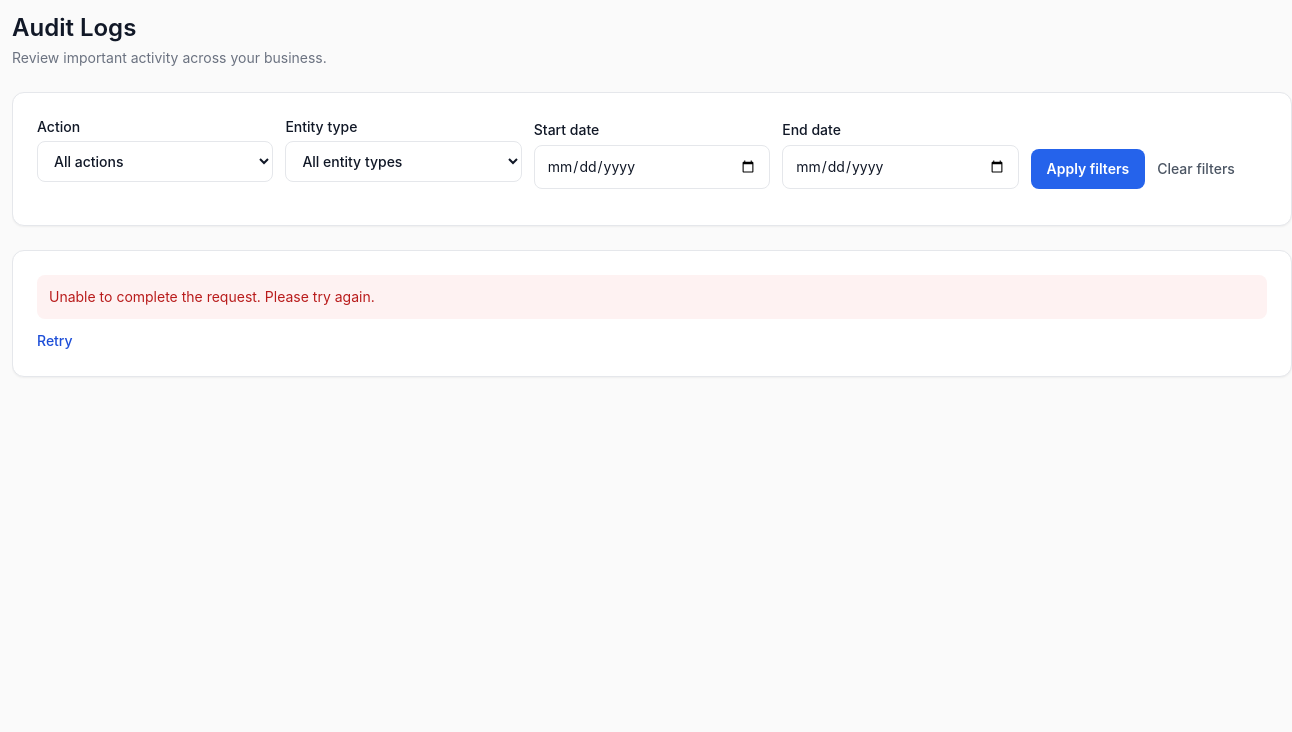
it: audit logs viewer › shows API errors and retries the current query
Check: the text "Unable to complete the request. Please try again." is shown, box [37,275,1267,319]
Click the button "Retry": (55, 341) [37,331,73,351]
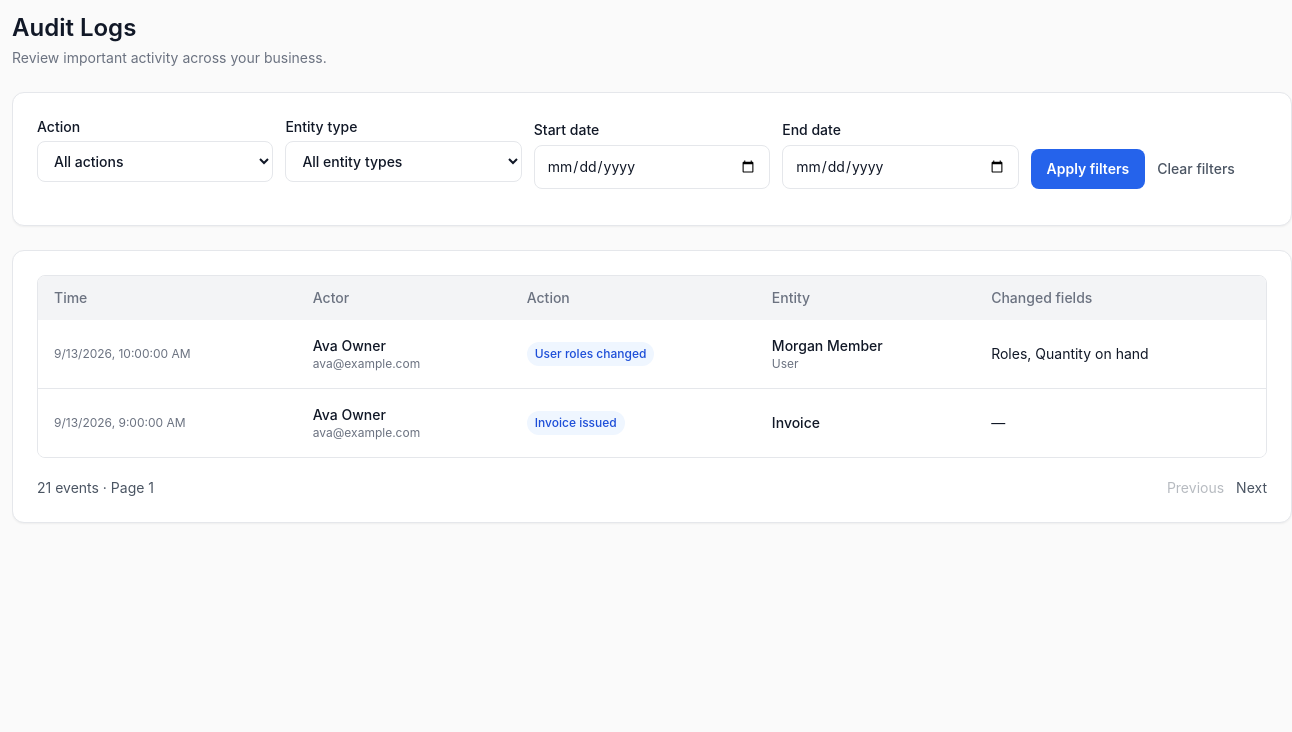
Check: the text "Morgan Member" is shown, box [772,337,883,354]
